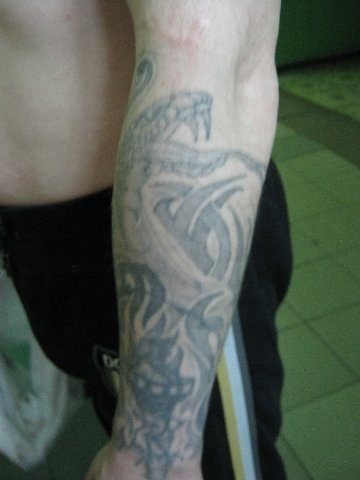tatu7_zmeya: (111, 57, 249, 387)
